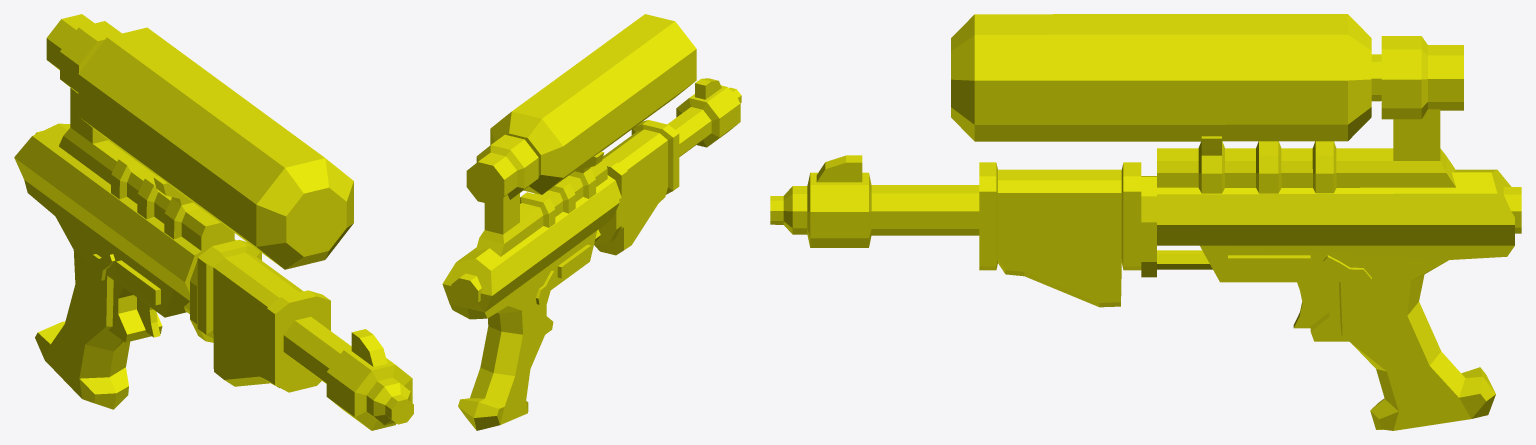
Rendered from SM_Wep_Watergun_01.glb.
3 views of the same model, side by side, from view 1: azimuth 30°, elevation 25°; view 2: azimuth 150°, elevation 25°; view 3: azimuth 270°, elevation 25° (orthographic). The views are drawn at different scales.
Parts seen in each view (by area): view 1: SM_Wep_Watergun_01, Watergun_01_Refill, Watergun_01_Pump, Watergun_01_Trigger; view 2: SM_Wep_Watergun_01, Watergun_01_Refill, Watergun_01_Pump; view 3: SM_Wep_Watergun_01, Watergun_01_Refill, Watergun_01_Pump, Watergun_01_Trigger.
Boxes of the visible parts, box(x1,y1,x2,y2) form: SM_Wep_Watergun_01: box(14, 14, 413, 430); Watergun_01_Refill: box(78, 27, 353, 269); Watergun_01_Pump: box(197, 240, 330, 392); Watergun_01_Trigger: box(137, 297, 160, 337); SM_Wep_Watergun_01: box(442, 78, 741, 430); Watergun_01_Refill: box(490, 14, 696, 194); Watergun_01_Pump: box(594, 120, 679, 255); SM_Wep_Watergun_01: box(770, 36, 1521, 430); Watergun_01_Refill: box(951, 14, 1381, 141); Watergun_01_Pump: box(979, 162, 1141, 307); Watergun_01_Trigger: box(1293, 282, 1329, 328).
Bounding box in the file's own units: 0.0862 × 0.3271 × 0.5493.
1 material, 1 textured.
